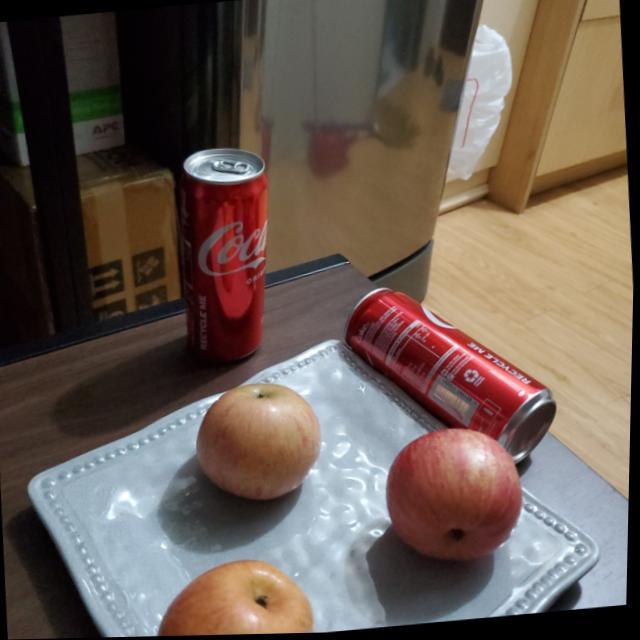apple: (377, 428, 527, 577), (197, 378, 328, 503), (154, 553, 322, 637)
coke: (340, 272, 562, 470), (170, 143, 280, 367)
